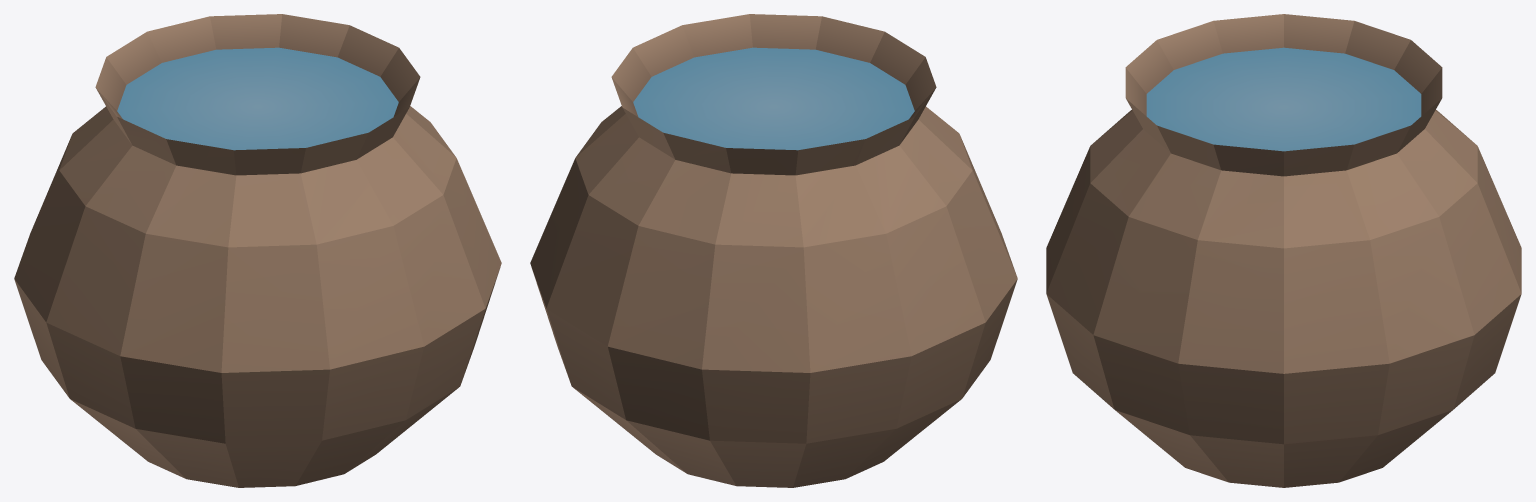
Rendered from drop_water_a.glb.
The picture shows the model from 3 angles, left to right: view 1: azimuth 30°, elevation 25°; view 2: azimuth 150°, elevation 25°; view 3: azimuth 270°, elevation 25°; orthographic projection.
Visible parts, largest first — view 1: drop_water_a; view 2: drop_water_a; view 3: drop_water_a.
Boxes of the visible parts, x1=… form: drop_water_a: x1=14, y1=14, x2=501, y2=487; drop_water_a: x1=530, y1=14, x2=1017, y2=487; drop_water_a: x1=1046, y1=14, x2=1521, y2=487.
Size of the model in its own units: 0.27 by 0.215 by 0.2632.
